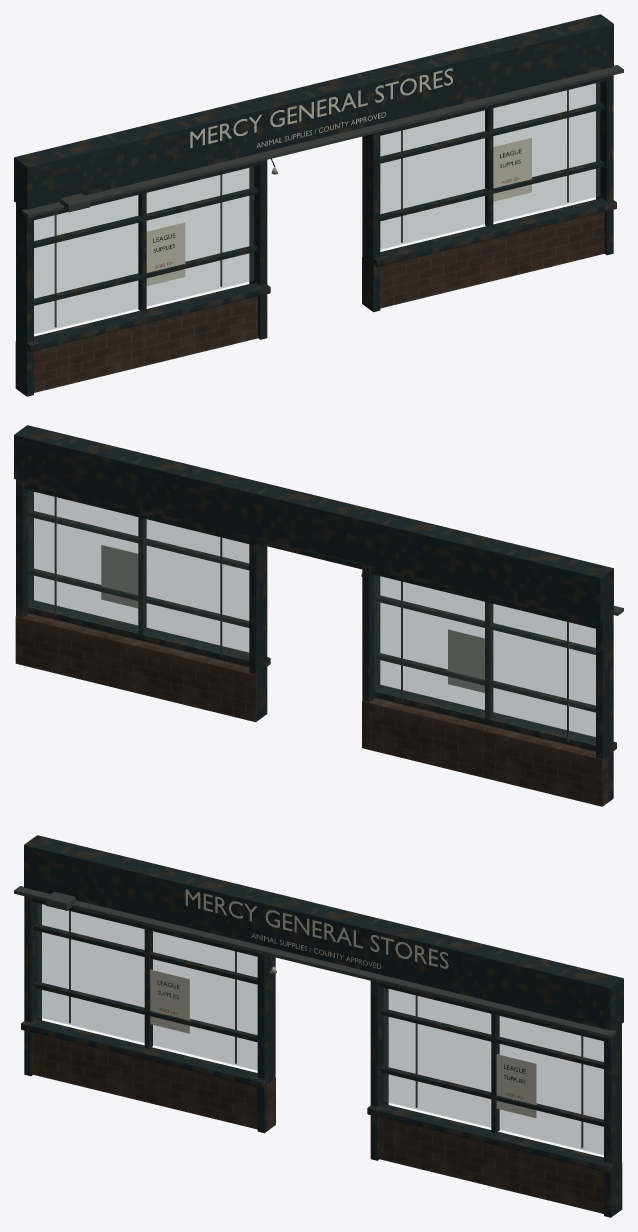
File: corner-shopfront8m.glb
3 renders of one model, top to bottom at view 1: azimuth 30°, elevation 25°; view 2: azimuth 150°, elevation 25°; view 3: azimuth 330°, elevation 25°, orthographic.
Visible parts, largest first — view 1: Authored Faded harbour paint, Authored shopglass, Authored Harbour damp brickwork, Authored iron, Authored paper; view 2: Authored Faded harbour paint, Authored shopglass, Authored Harbour damp brickwork, Authored paper, Authored iron; view 3: Authored Faded harbour paint, Authored shopglass, Authored Harbour damp brickwork, Authored iron, Authored paper.
Boxes of the visible parts, box(x1,y1,x2,y2) form: Authored Faded harbour paint: box(14, 14, 616, 396); Authored shopglass: box(34, 82, 600, 333); Authored Harbour damp brickwork: box(15, 212, 604, 392); Authored iron: box(22, 65, 623, 327); Authored paper: box(146, 68, 531, 286); Authored Faded harbour paint: box(14, 425, 616, 803); Authored shopglass: box(27, 490, 595, 745); Authored Harbour damp brickwork: box(15, 613, 611, 806); Authored paper: box(101, 545, 484, 692); Authored iron: box(54, 497, 623, 741); Authored Faded harbour paint: box(21, 835, 623, 1217); Authored shopglass: box(37, 903, 603, 1154); Authored Harbour damp brickwork: box(33, 1033, 622, 1214); Authored iron: box(14, 886, 615, 1148); Authored paper: box(150, 889, 536, 1118).
Size of the model in its own units: 8.12 by 3 by 0.555.
9 materials, 2 textured.
